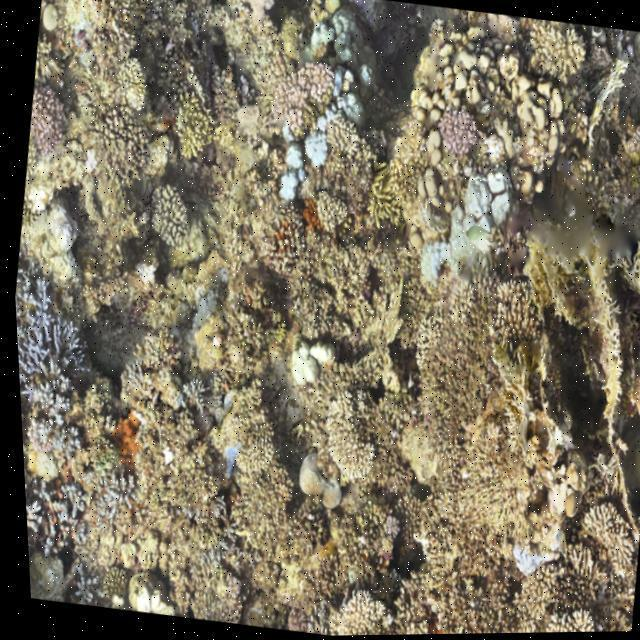Bleached Coral: (11, 277, 102, 466), (318, 1, 380, 130), (448, 167, 522, 246), (19, 482, 82, 557), (266, 116, 312, 202), (278, 329, 338, 392), (405, 234, 470, 286), (496, 534, 556, 578), (300, 10, 342, 66), (300, 110, 330, 174)
